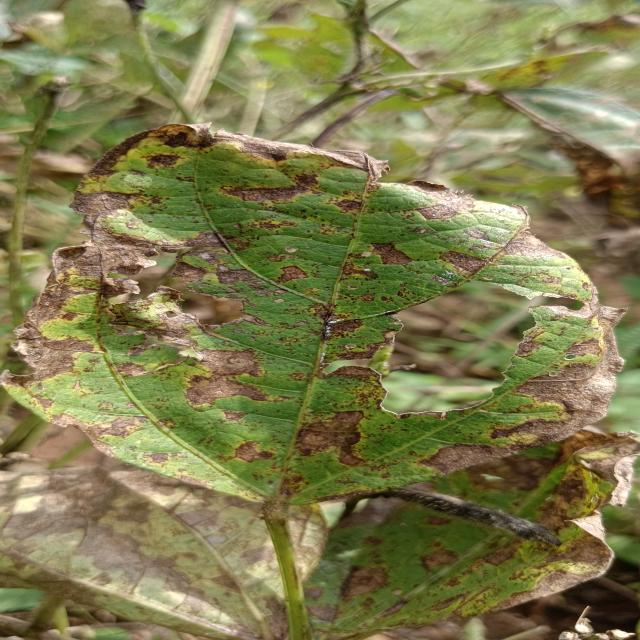Black gram_leaf spot: (0, 124, 617, 629), (0, 323, 640, 633)
